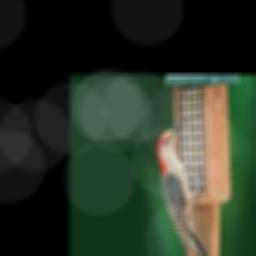Woodpecker: (157, 119, 211, 256)
